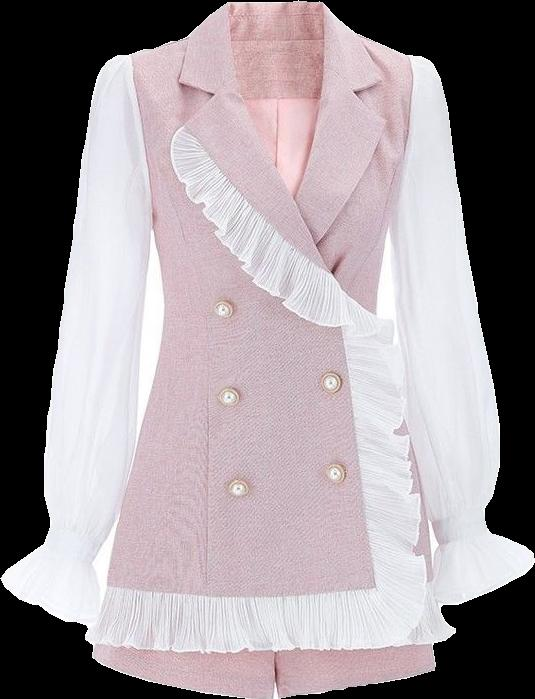Bodice: (86, 2, 446, 698)
Neckline: (225, 1, 328, 203)
Sleeve: (1, 54, 153, 631), (390, 55, 534, 604)
Sleeveline: (385, 58, 419, 236), (127, 54, 157, 236), (43, 539, 103, 575), (50, 521, 101, 551), (431, 526, 492, 548), (432, 505, 484, 526)
Waistline: (93, 652, 438, 698)
